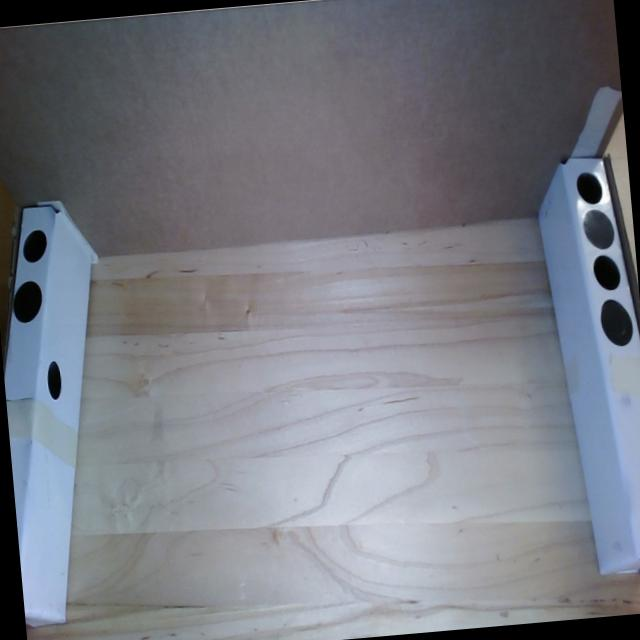Hole: (589, 251, 624, 294), (20, 225, 50, 267), (572, 168, 604, 205), (598, 296, 628, 331), (44, 358, 65, 403)
Sticker: (8, 276, 45, 324), (599, 304, 637, 350), (580, 207, 616, 253)
